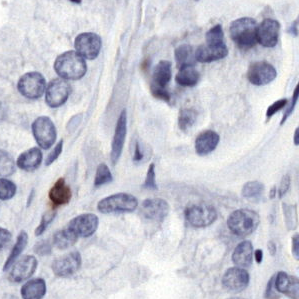Lymphocyte: (48, 178, 74, 207)
